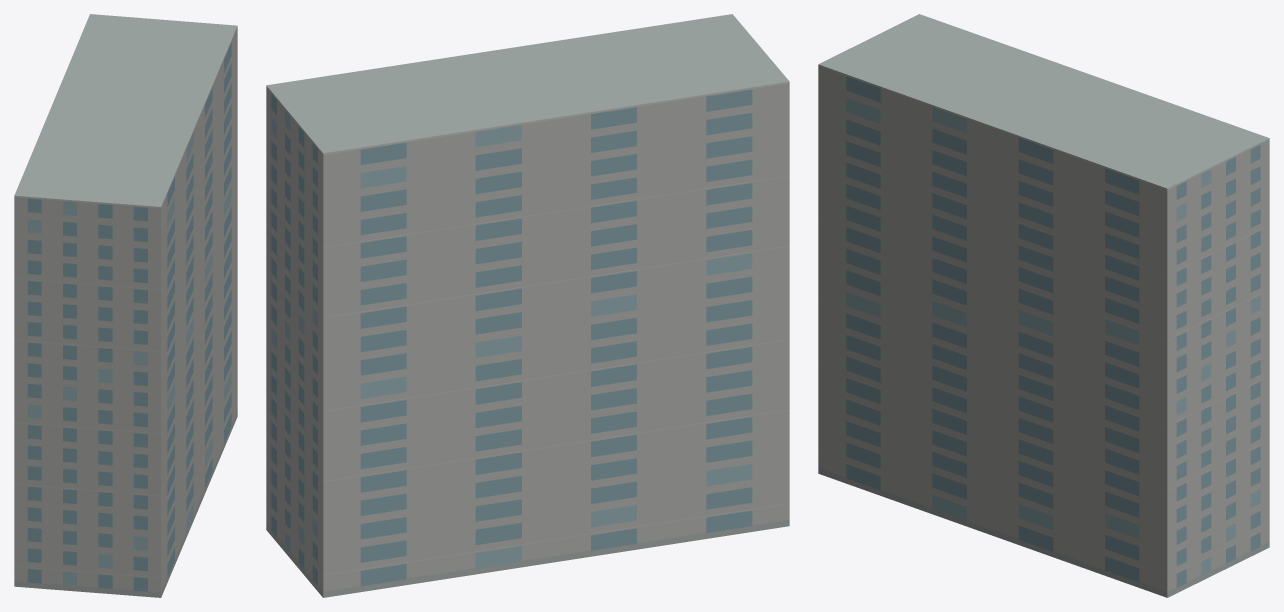
Rendered from survey-upis-33028871.glb.
3 renders of one model, left to right at view 1: azimuth 30°, elevation 25°; view 2: azimuth 150°, elevation 25°; view 3: azimuth 270°, elevation 25°, orthographic. The views are drawn at different scales.
Visible parts, largest first — view 1: survey-upis-33028871.tmp; view 2: survey-upis-33028871.tmp; view 3: survey-upis-33028871.tmp.
Boxes of the visible parts, x1=… form: survey-upis-33028871.tmp: x1=14, y1=14, x2=237, y2=597; survey-upis-33028871.tmp: x1=266, y1=14, x2=789, y2=597; survey-upis-33028871.tmp: x1=818, y1=14, x2=1269, y2=597.
Size of the model in its own units: 53.03 by 57.95 by 57.93.
